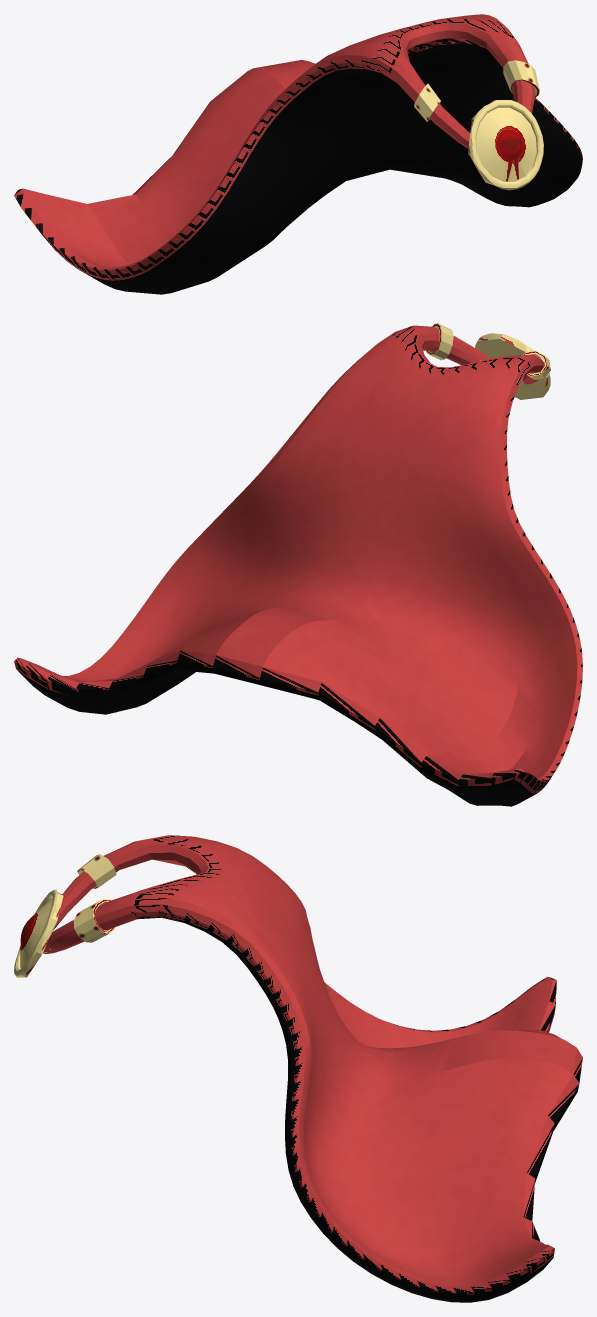
Rendered from Capa.glb.
3 views of the same model, one above another, from view 1: azimuth 30°, elevation 25°; view 2: azimuth 150°, elevation 25°; view 3: azimuth 270°, elevation 25° (orthographic). The views are drawn at different scales.
Parts seen in each view (by area): view 1: CAPA; view 2: CAPA; view 3: CAPA.
Part boxes in pixels (box(x1,y1,x2,y2)): CAPA: box(14, 14, 582, 294); CAPA: box(14, 323, 582, 806); CAPA: box(14, 835, 582, 1302).
Bounding box in the file's own units: 1.86 × 1.08 × 1.69.
Materials: 1 (1 with a texture image).
